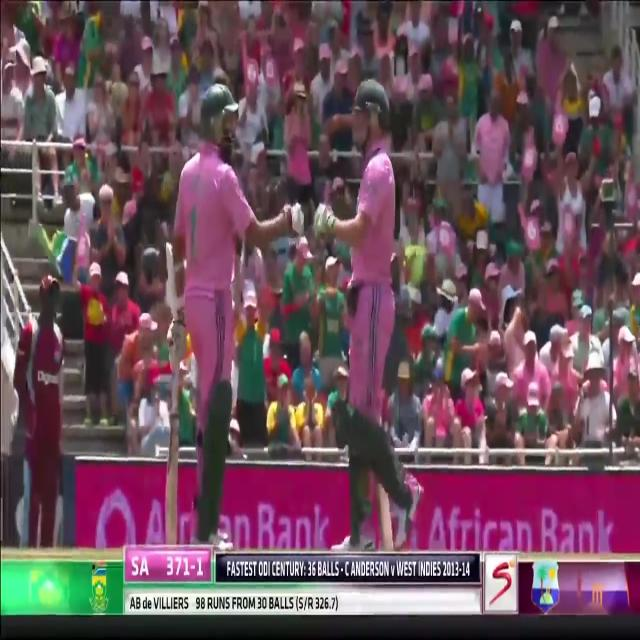Ball: (161, 78, 314, 558), (318, 69, 420, 555)
